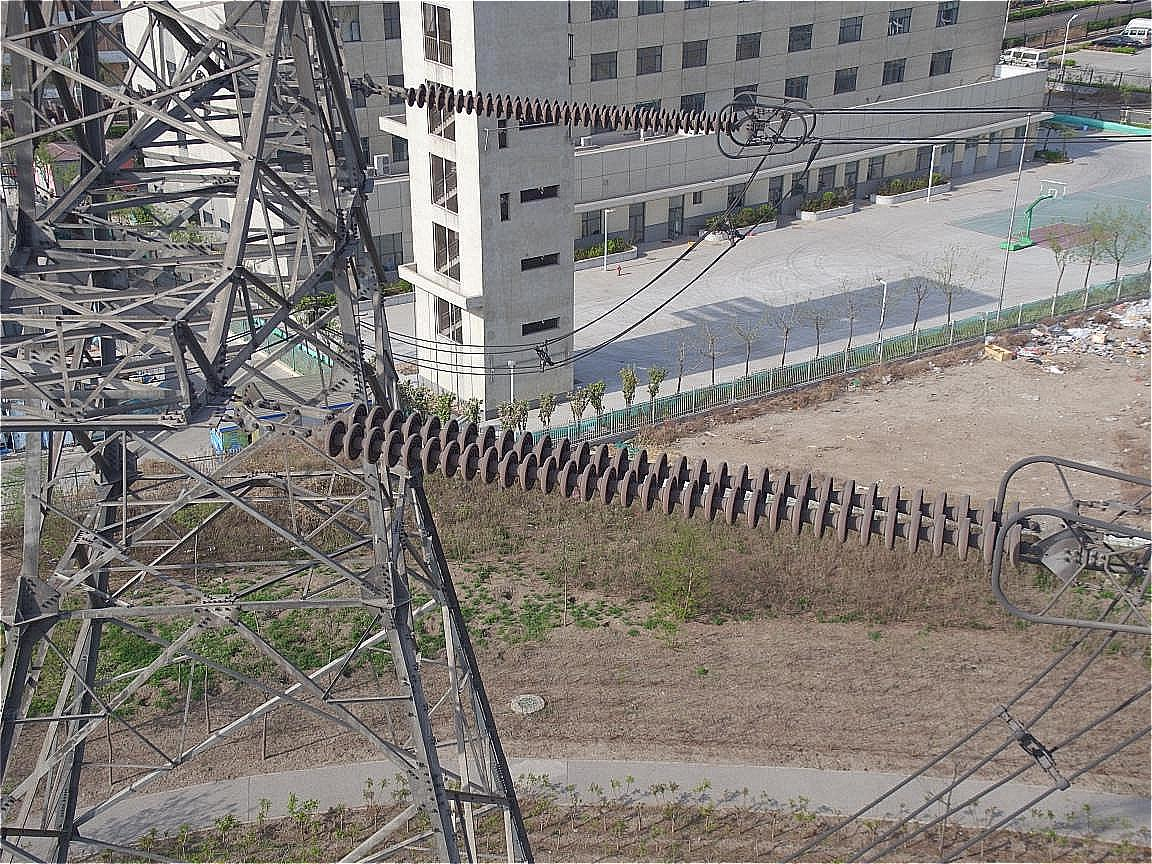insultor1: (300, 388, 1066, 579), (376, 69, 750, 159)
